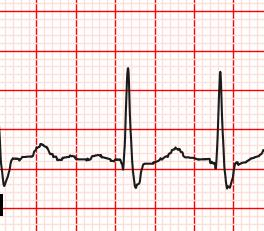Pathological Q Wave: (98, 151, 127, 175)
ST Depression: (102, 152, 153, 193)
